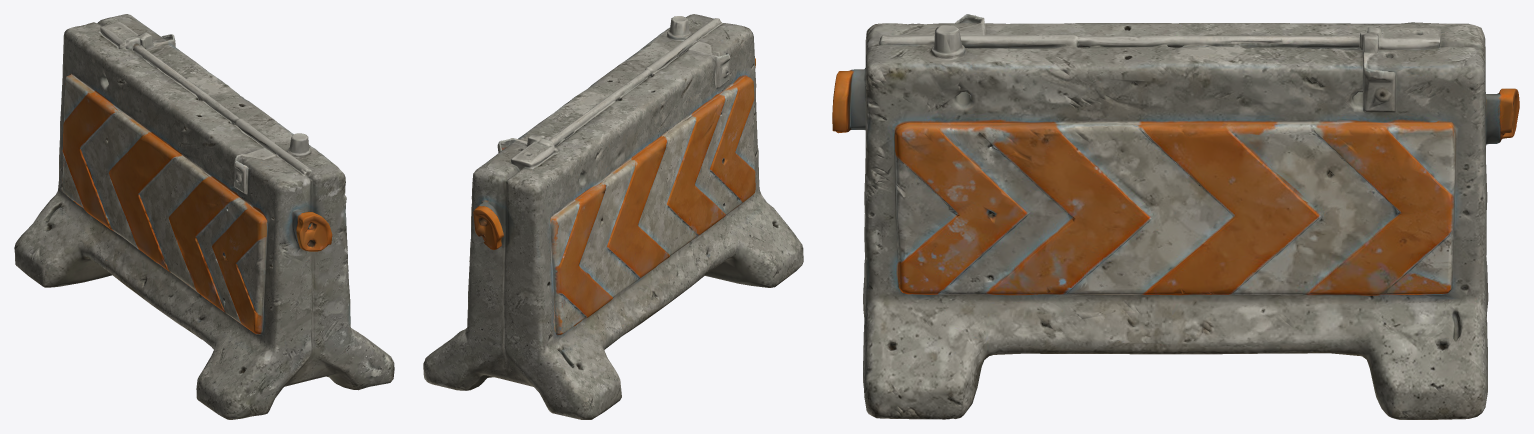
The model's file is barrier.glb.
3 views of the same model, side by side, from view 1: azimuth 30°, elevation 25°; view 2: azimuth 150°, elevation 25°; view 3: azimuth 270°, elevation 25° (orthographic). The views are drawn at different scales.
Bounding box in the file's own units: 0.3986 × 0.5428 × 0.9807.
Materials: 1 (1 with a texture image).
